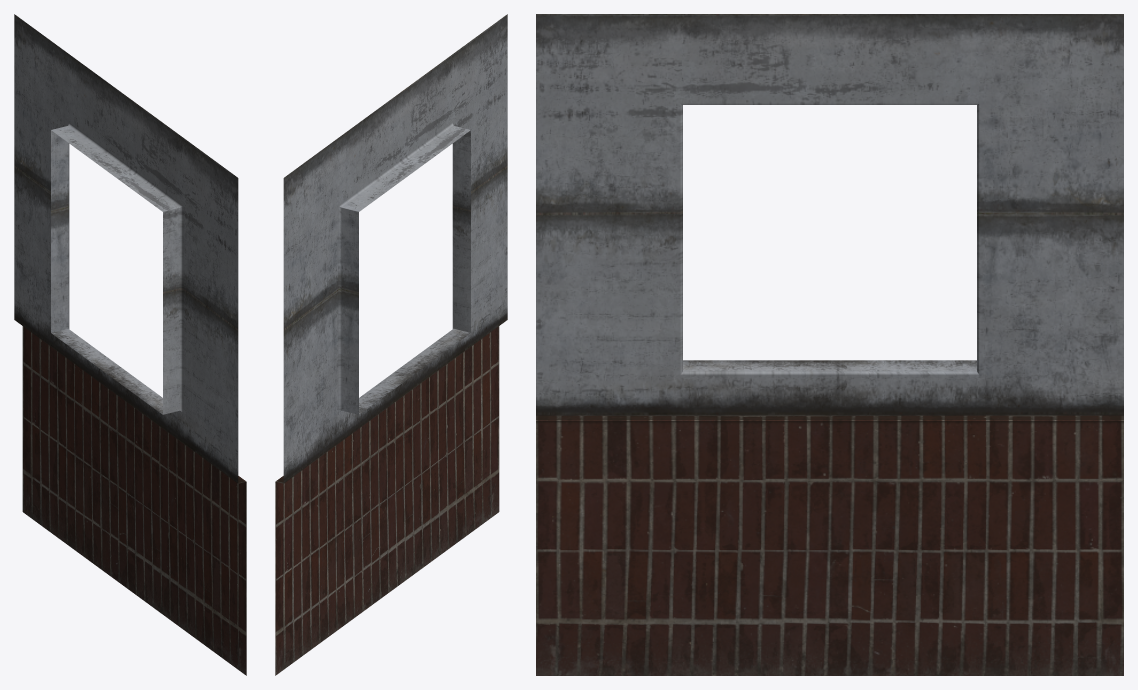
Rendered from Psychiatric_Ward_Guards_Room_Interior_Wall_2m_Window.glb.
3 views of the same model, side by side, from view 1: azimuth 30°, elevation 25°; view 2: azimuth 150°, elevation 25°; view 3: azimuth 270°, elevation 25° (orthographic). The views are drawn at different scales.
Parts seen in each view (by area): view 1: Psychiatric_Ward_Guards_Room_Interior_Wall_2m_Window; view 2: Psychiatric_Ward_Guards_Room_Interior_Wall_2m_Window; view 3: Psychiatric_Ward_Guards_Room_Interior_Wall_2m_Window.
Part boxes in pixels (x1=…): Psychiatric_Ward_Guards_Room_Interior_Wall_2m_Window: x1=14, y1=14, x2=246, y2=675; Psychiatric_Ward_Guards_Room_Interior_Wall_2m_Window: x1=275, y1=14, x2=507, y2=675; Psychiatric_Ward_Guards_Room_Interior_Wall_2m_Window: x1=536, y1=14, x2=1123, y2=675.
Bounding box in the file's own units: 0.1437 × 2.47 × 2.
1 material, 1 textured.
